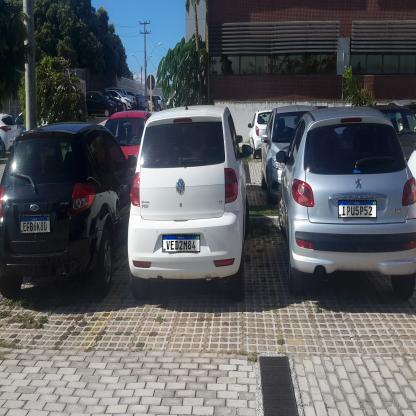PlacaM: (338, 200, 377, 218), (162, 234, 200, 252), (20, 216, 50, 234)
